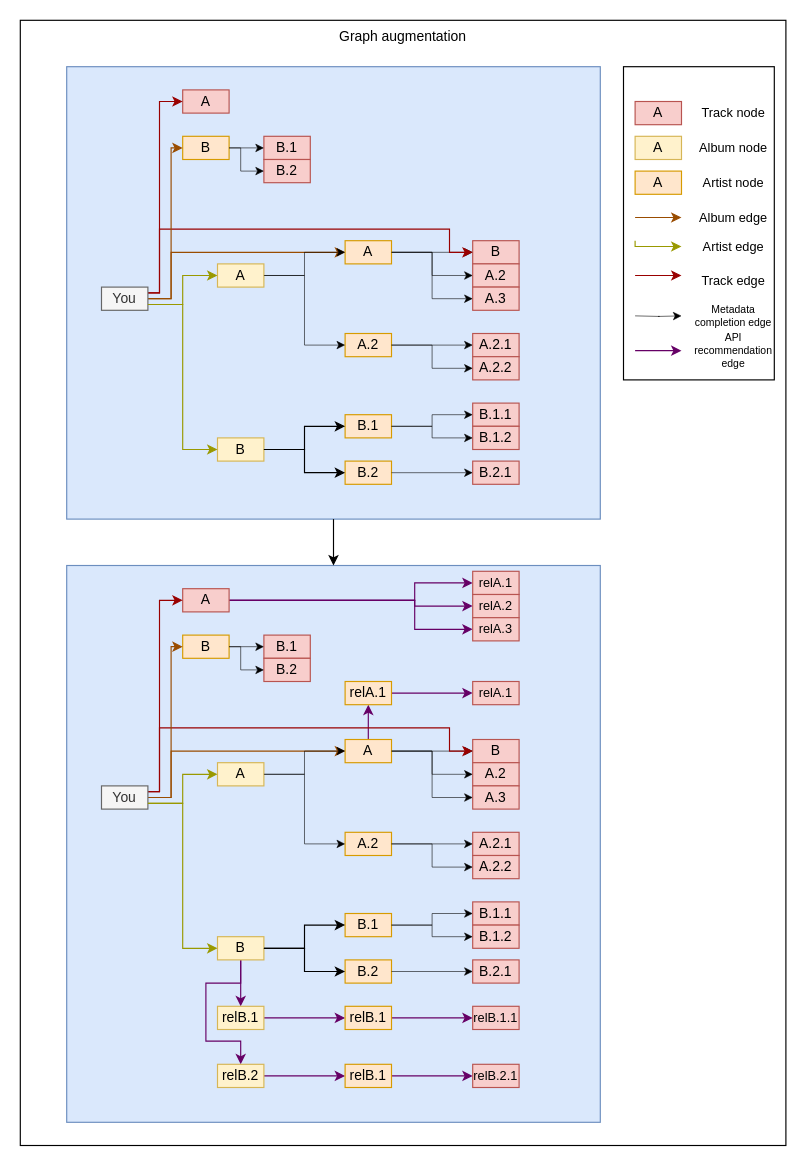
The diagram is 806 pixels wide and 1166 high, and some of its shapes have lost their labels. The box of each missing label's shape, as (x1, y1, x2, y2) in pixels:
Augmented Graph: (66, 564, 600, 1122)
Initial Graph: (66, 66, 600, 519)
Legend: (622, 66, 774, 380)
